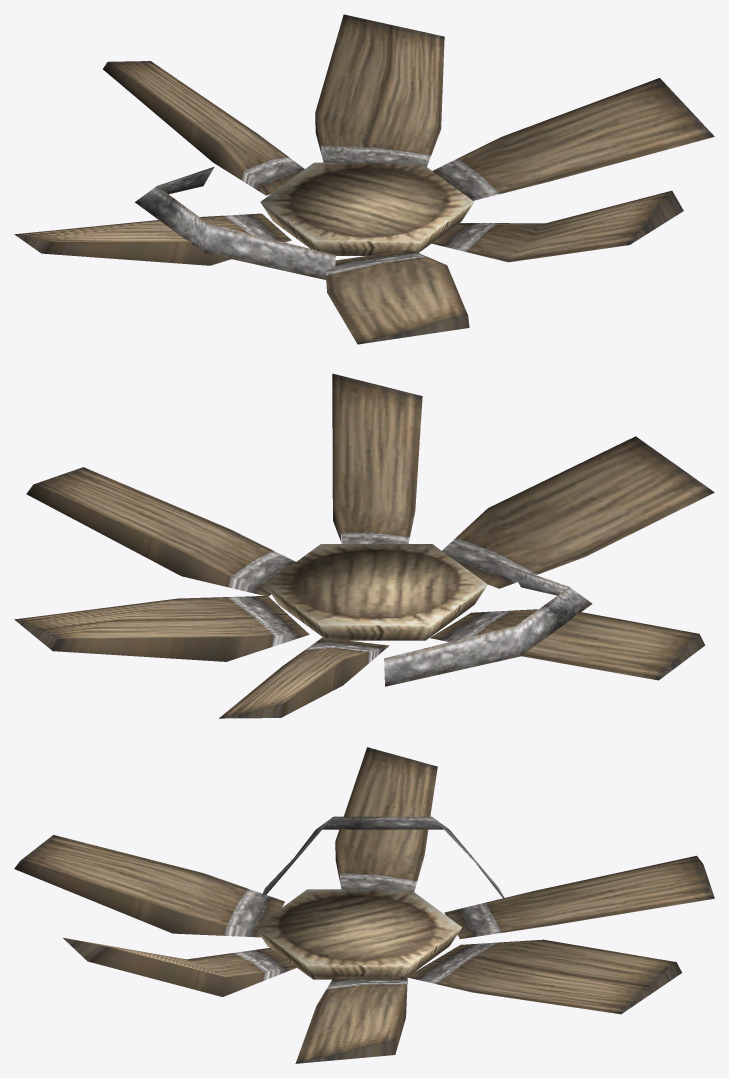
File: brokenbarrel01.obj
3 views of the same model, one above another, from view 1: azimuth 30°, elevation 25°; view 2: azimuth 150°, elevation 25°; view 3: azimuth 270°, elevation 25° (orthographic). The views are drawn at different scales.
Parts seen in each view (by area): view 1: brokenbarrel01; view 2: brokenbarrel01; view 3: brokenbarrel01.
Part boxes in pixels (x1,y1,x2,y2): brokenbarrel01: (14,14,714,344); brokenbarrel01: (14,373,714,718); brokenbarrel01: (14,747,714,1063).
Size of the model in its own units: 2.64 by 0.3366 by 2.6.
